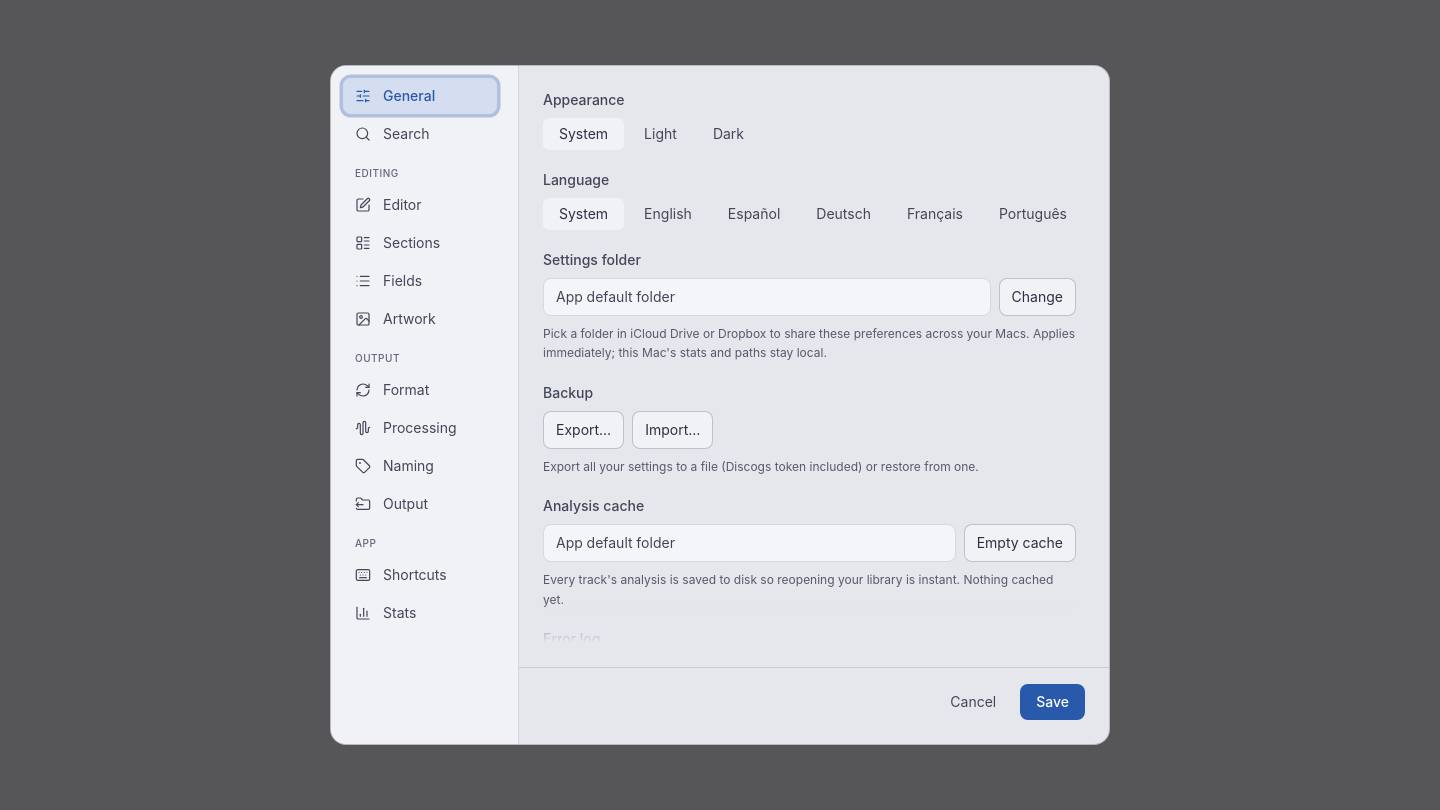
Scenario: SettingsModal destination › reflects a saved "Apple Music only" setting as the selected radio
Click the tab with test id "settings-tab-destination".
click(420, 504)  # box left=343, top=486, right=497, bottom=522
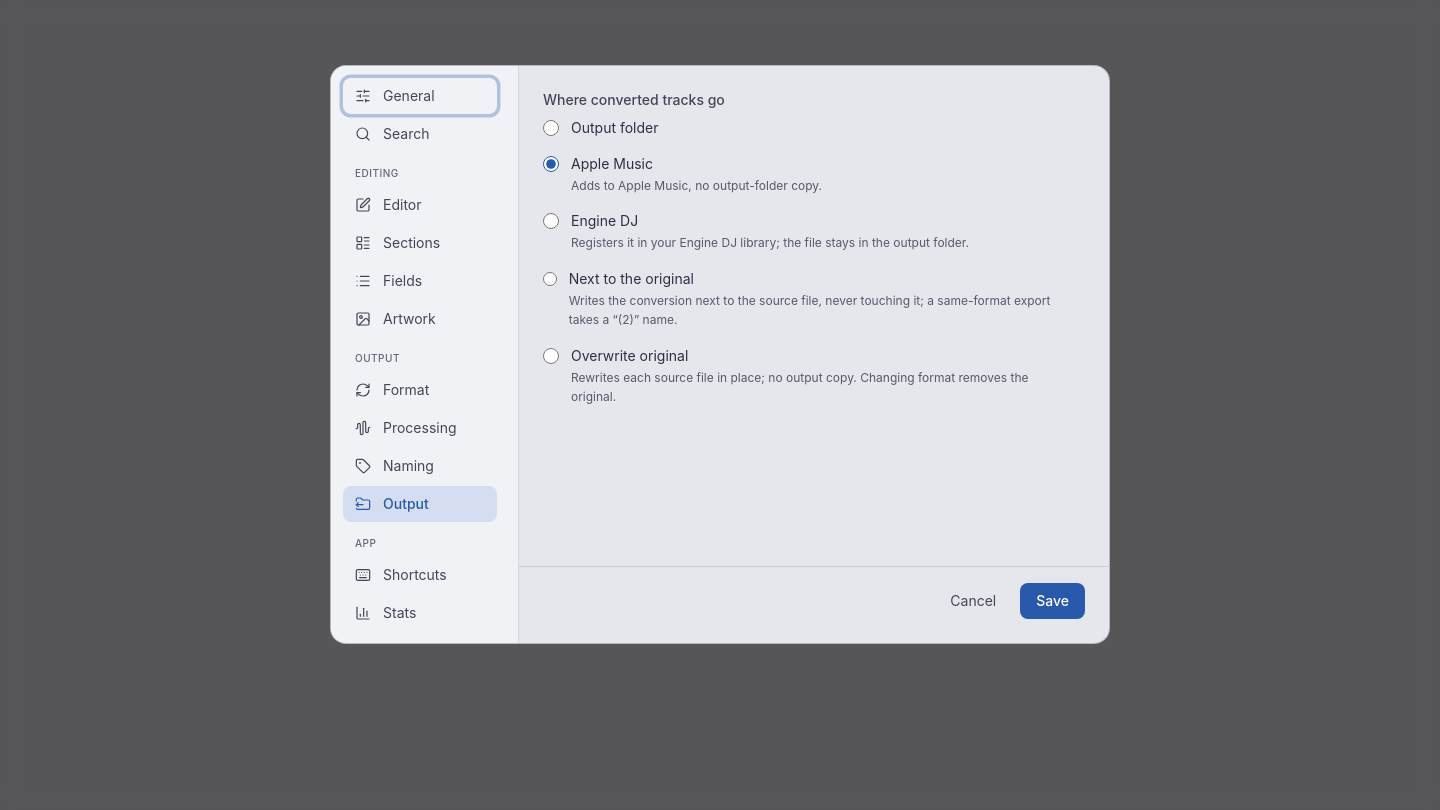
Check: the radio button with test id "settings-destination-appleMusic" is checked, box left=543, top=156, right=559, bottom=172
